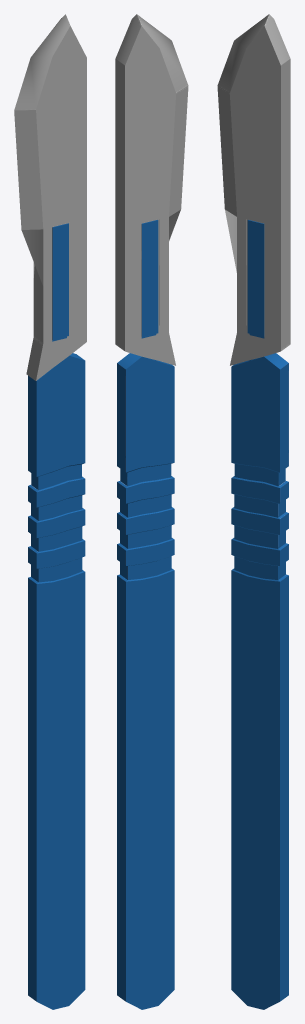
Rendered from Scalpel.fbx.
3 views of the same model, side by side, from view 1: azimuth 30°, elevation 25°; view 2: azimuth 210°, elevation 25°; view 3: azimuth 330°, elevation 25° (orthographic).
Parts seen in each view (by area): view 1: Handle, Blade; view 2: Handle, Blade; view 3: Handle, Blade.
Part boxes in pixels (box(x1,y1,x2,y2)): Handle: box(28, 223, 85, 1009); Blade: box(14, 14, 86, 380); Handle: box(117, 220, 174, 1009); Blade: box(115, 14, 188, 365); Handle: box(231, 220, 288, 1009); Blade: box(217, 14, 290, 365).
Bounding box in the file's own units: 79.77 × 1110 × 19.49.
